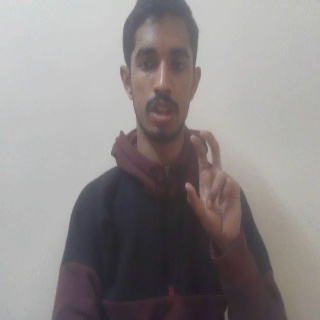No: (183, 127, 244, 239)
